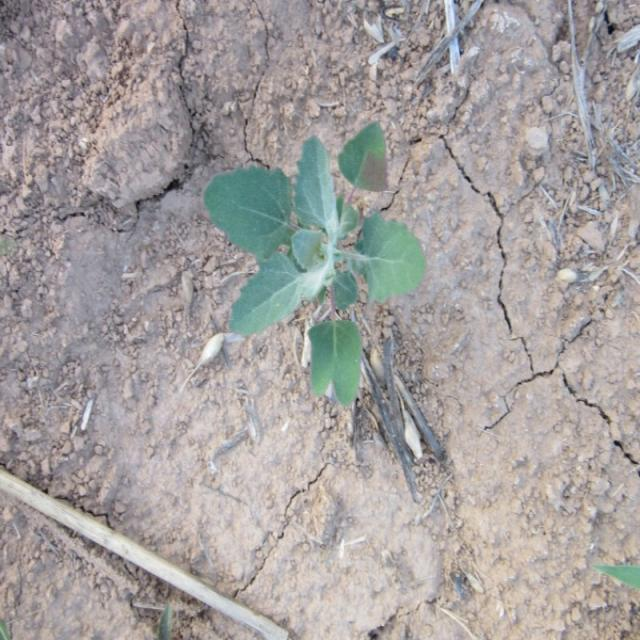ca: (206, 123, 420, 411)
